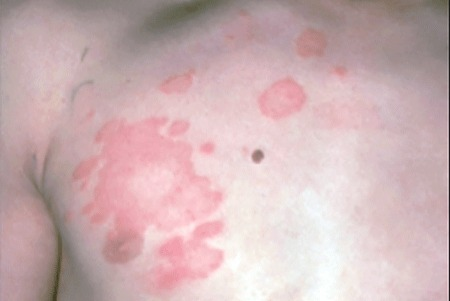Ringworm: (67, 105, 233, 298), (252, 69, 317, 124), (290, 18, 333, 62), (156, 71, 202, 97), (333, 61, 349, 86)
